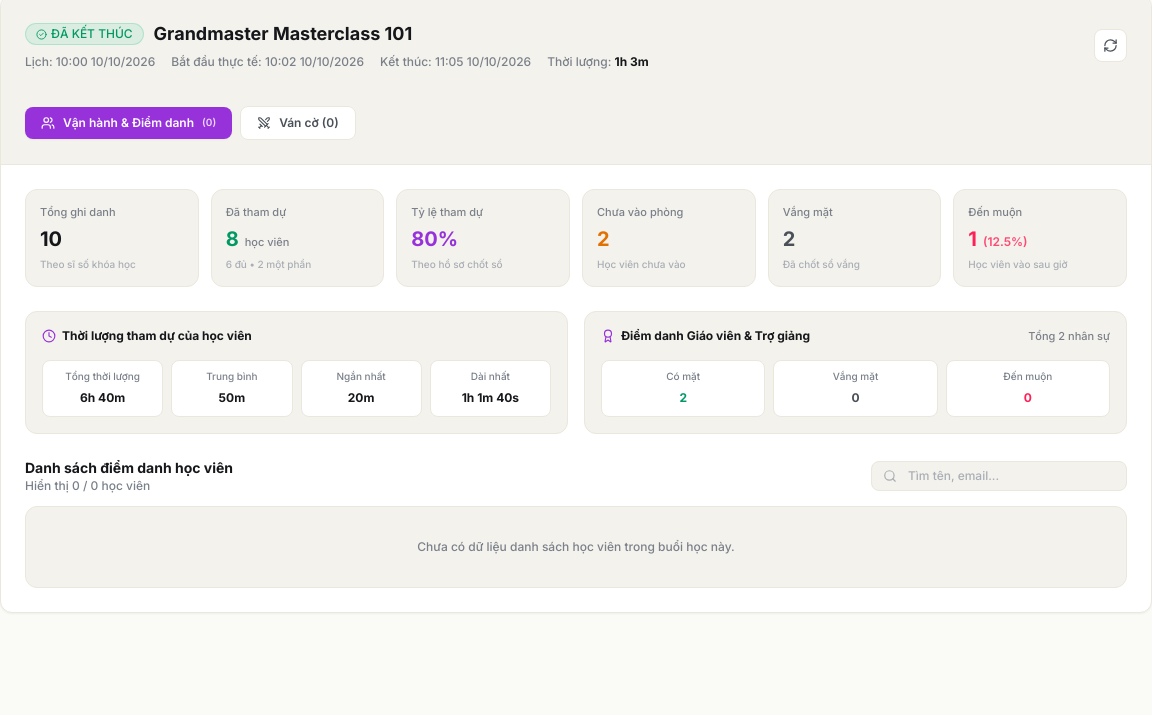
it: TASK 9.5 — Live Session Analytics UI (LiveSessionAnalyticsView) › renders empty roster and empty chess history gracefully
The width and height of the screenshot is (1152, 715).
Check: the text "Chưa có dữ liệu danh sách học viên trong buổi học này." is shown, box [25,506,1127,588]
Click the button with test id "tab-chess" at (298, 123), box [240,106,356,140]
(page scrolled)
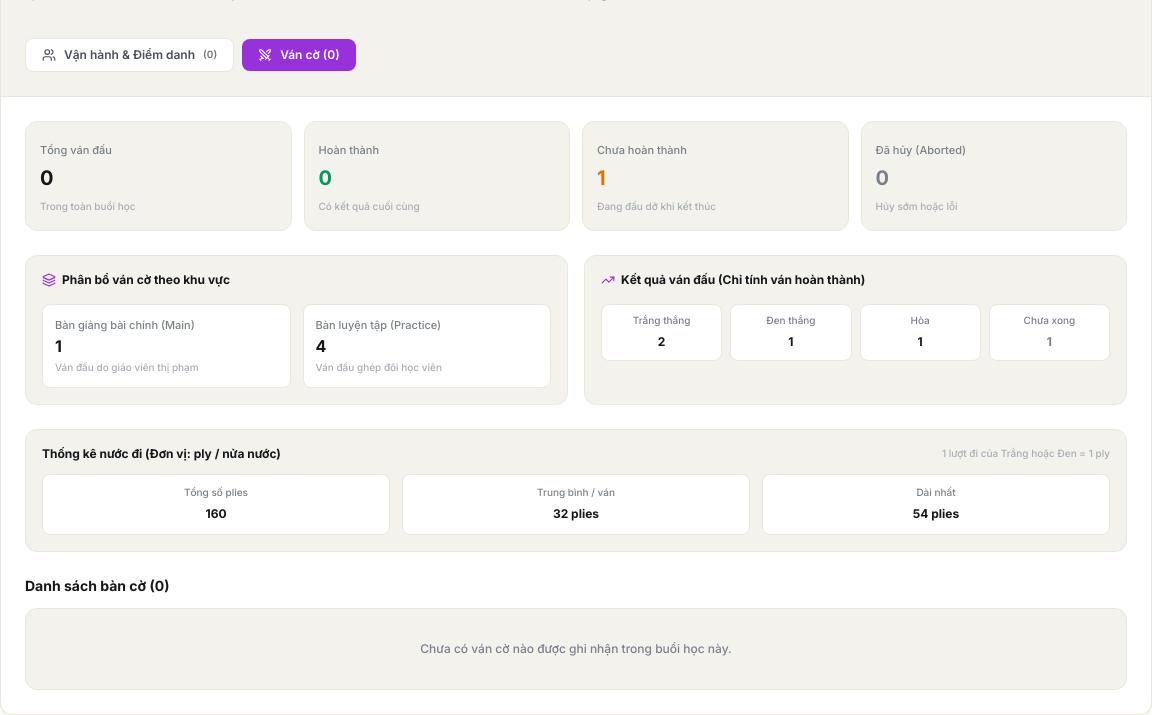
Check: the text "Chưa có ván cờ nào được ghi nhận trong buổi học này." is shown, box [25,608,1127,690]
